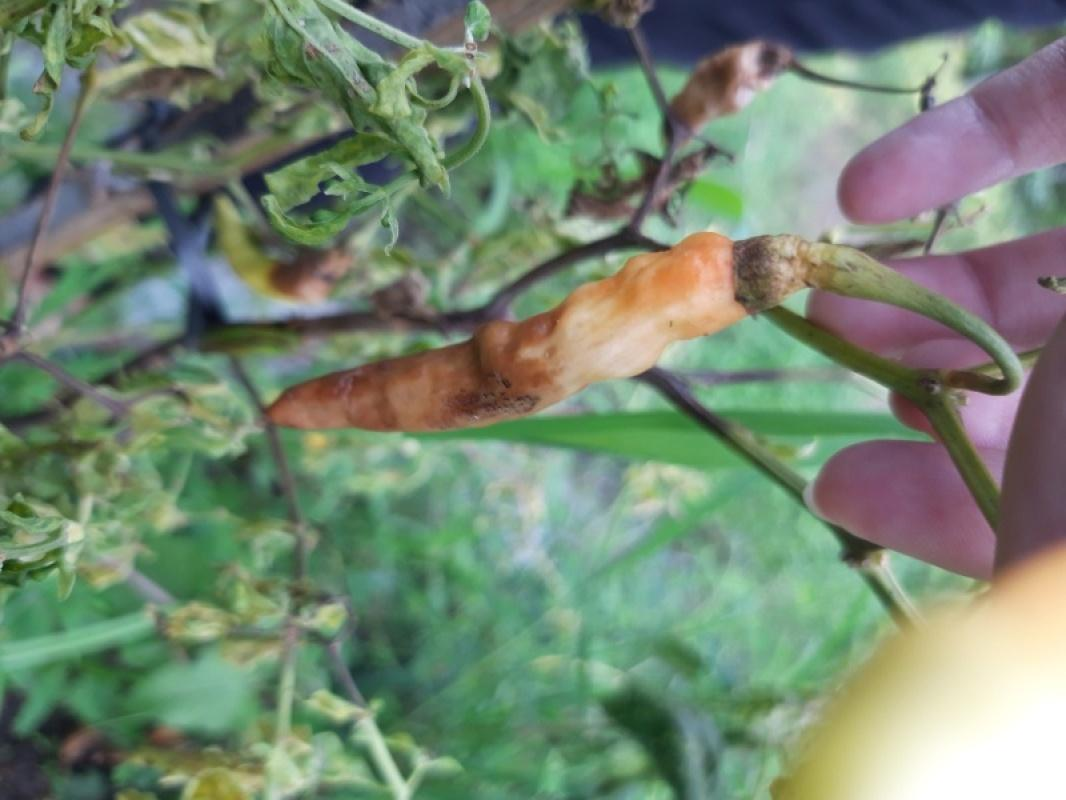antraknosa: (257, 230, 757, 430)
cabai_normal: (211, 190, 355, 302), (662, 36, 783, 135)
